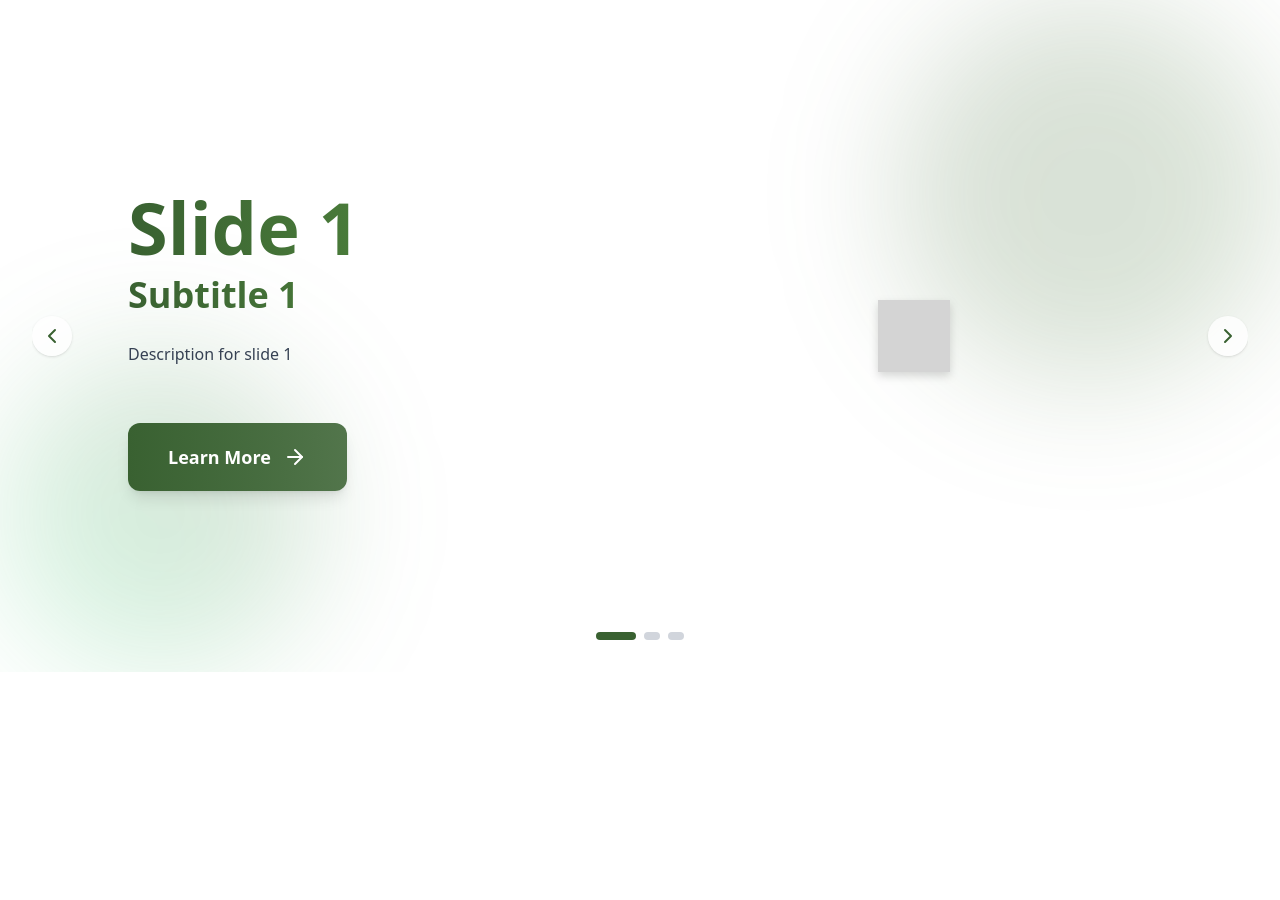
Test: CarouselSection Component › Navigation › moves to next slide when next button clicked
Click the button named "next" at (1228, 336), box [1208,316,1248,356]
Wait 600 ms
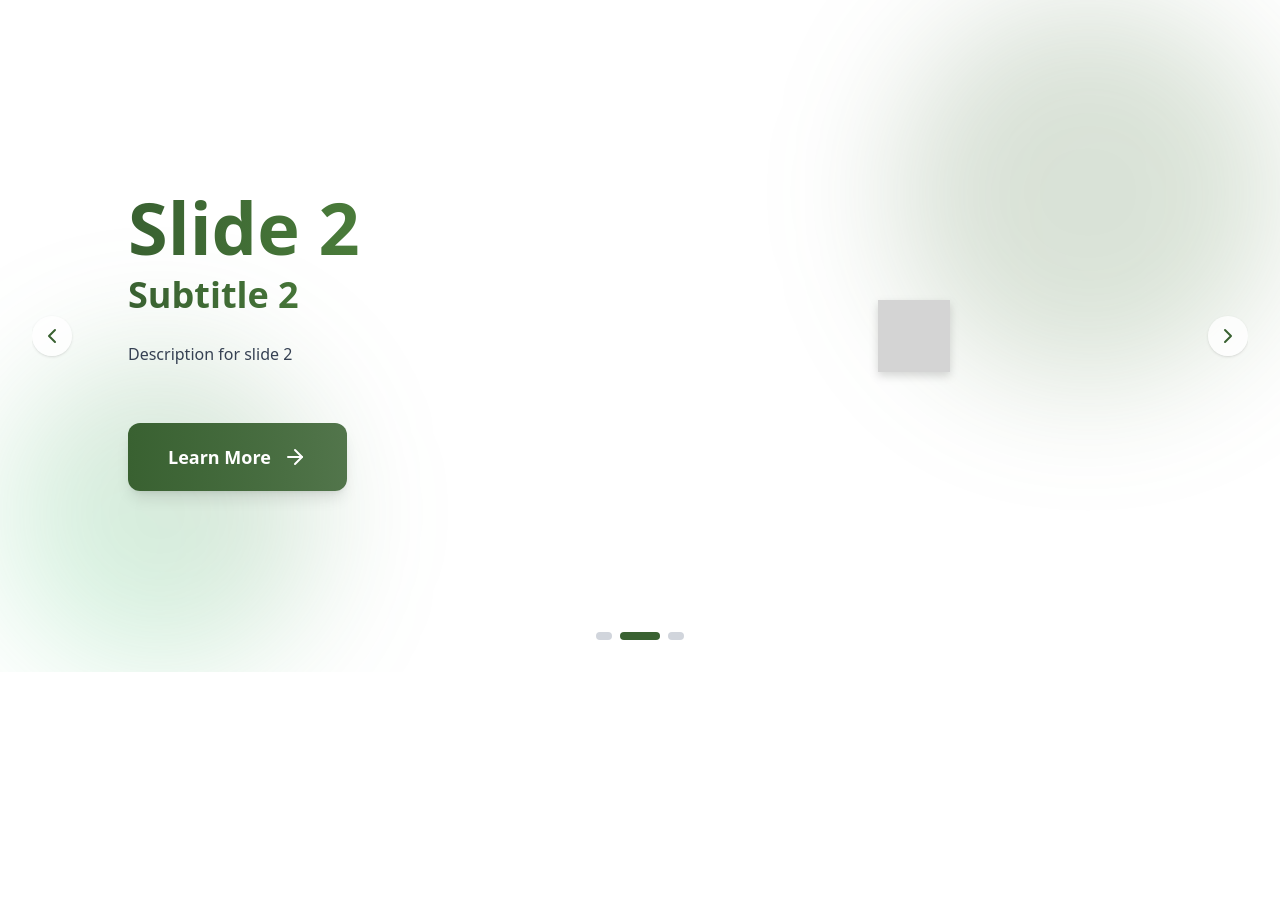
Expected: the text "Slide 2" is shown, [128,182,604,272]
